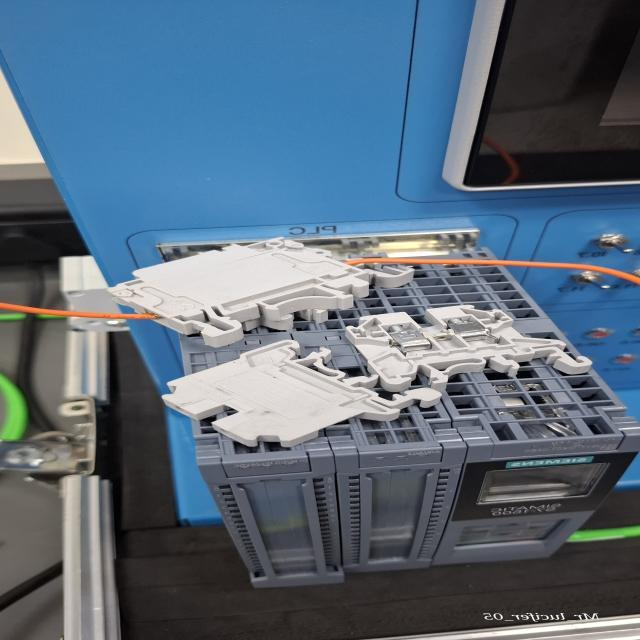Inverted: (150, 336, 392, 452)
Pass: (347, 282, 581, 407)
